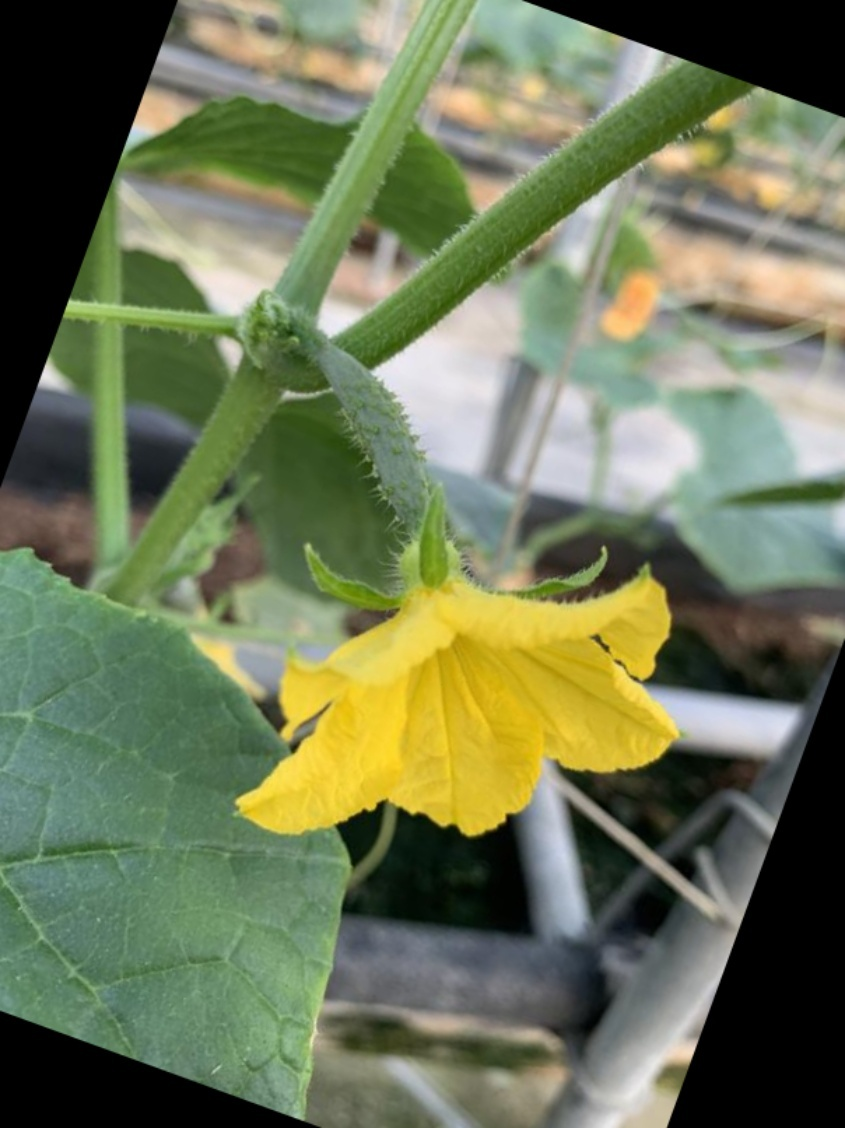flowering: (239, 334, 712, 861)
